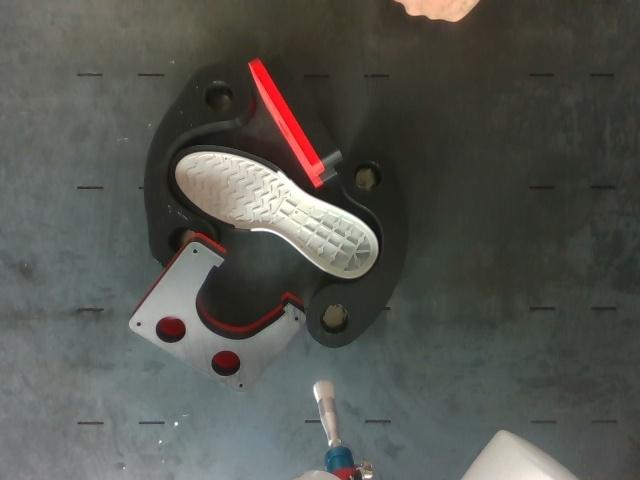shoes: (169, 145, 377, 278)
